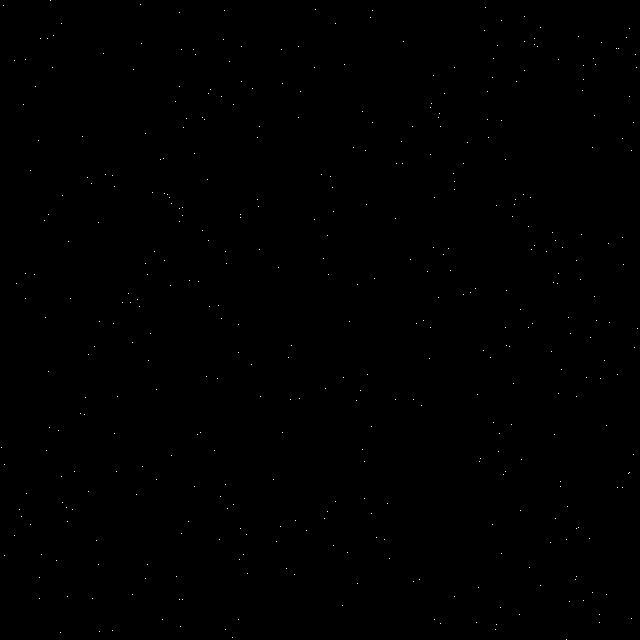Circle: (18, 16, 618, 618)
